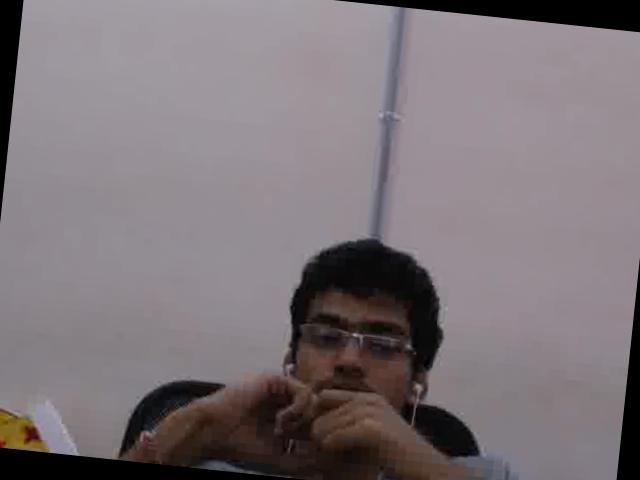bosan: (284, 289, 418, 440)
